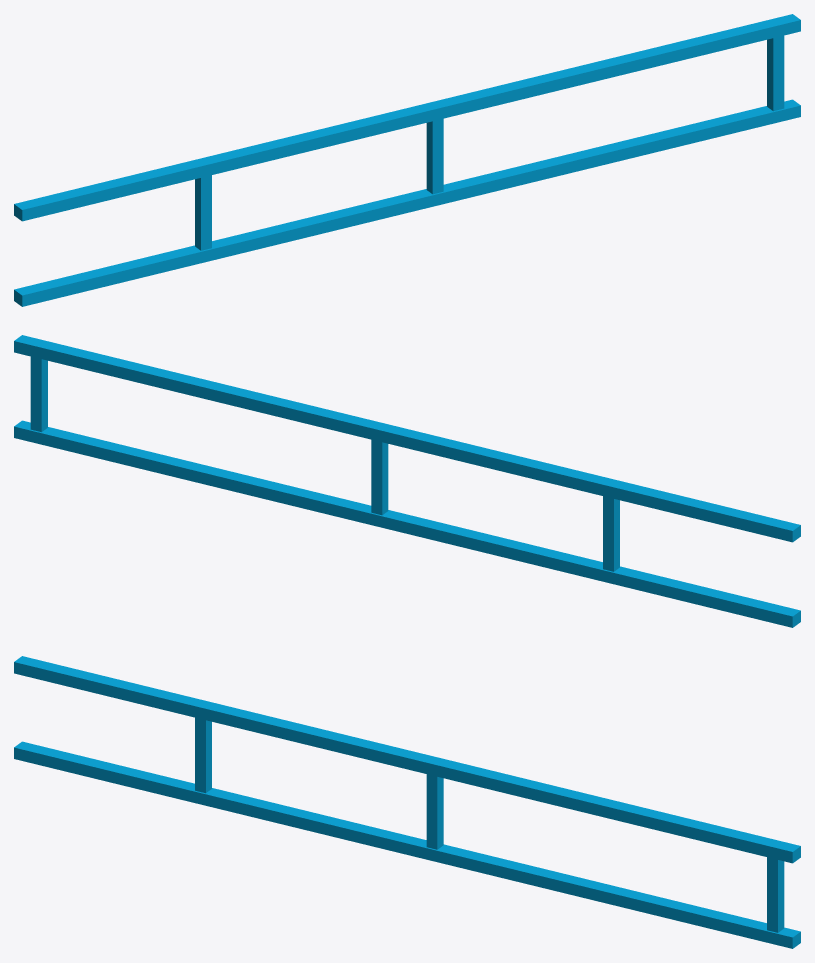
File: SL_Lights_Base_01_Lod0.fbx
The picture shows the model from 3 angles, top to bottom: view 1: azimuth 30°, elevation 25°; view 2: azimuth 150°, elevation 25°; view 3: azimuth 330°, elevation 25°; orthographic projection.
Parts seen in each view (by area): view 1: SL_Lights_Base_01_Lod0; view 2: SL_Lights_Base_01_Lod0; view 3: SL_Lights_Base_01_Lod0.
Part boxes in pixels (x1=…): SL_Lights_Base_01_Lod0: x1=14, y1=14, x2=800, y2=306; SL_Lights_Base_01_Lod0: x1=14, y1=335, x2=800, y2=627; SL_Lights_Base_01_Lod0: x1=14, y1=656, x2=800, y2=948.
Bounding box in the file's own units: 584 × 69.54 × 10.66.
